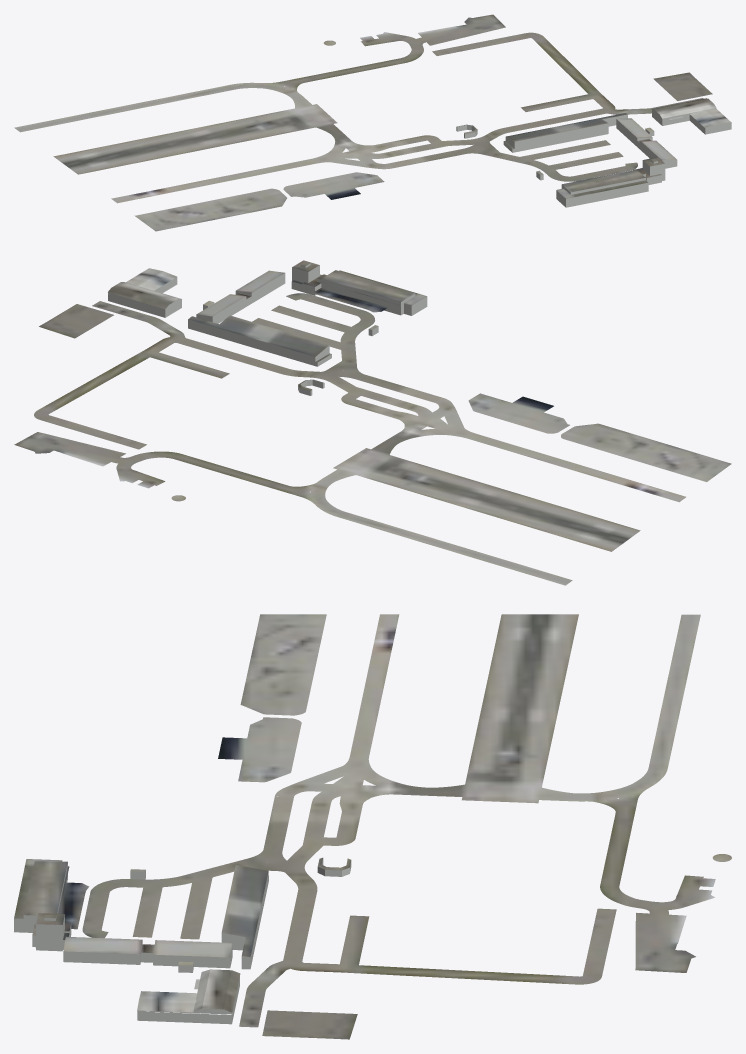
File: LSZH_3_-1.glb
3 views of the same model, one above another, from view 1: azimuth 30°, elevation 25°; view 2: azimuth 150°, elevation 25°; view 3: azimuth 270°, elevation 25° (orthographic). The views are drawn at different scales.
Parts seen in each view (by area): view 1: pavement_LSZH_pavement_5370_2513, pavement_LSZH_pavement_5371_2513, building_a8c24826d09cff6a, building_bbb85e57517aaf0f, building_456e3000f247fb90, building_12cc013bdff51552; view 2: pavement_LSZH_pavement_5370_2513, pavement_LSZH_pavement_5371_2513, building_a8c24826d09cff6a, building_bbb85e57517aaf0f, building_456e3000f247fb90, building_12cc013bdff51552, pavement_LSZH_pavement_5371_2512; view 3: pavement_LSZH_pavement_5370_2513, pavement_LSZH_pavement_5371_2513, building_a8c24826d09cff6a, building_bbb85e57517aaf0f, building_12cc013bdff51552, building_456e3000f247fb90, pavement_LSZH_pavement_5371_2512.
Boxes of the visible parts, bbox=[...] form: pavement_LSZH_pavement_5370_2513: bbox=[14, 36, 565, 231]; pavement_LSZH_pavement_5371_2513: bbox=[368, 14, 712, 181]; building_a8c24826d09cff6a: bbox=[503, 98, 731, 160]; building_bbb85e57517aaf0f: bbox=[503, 108, 731, 168]; building_456e3000f247fb90: bbox=[556, 160, 665, 207]; building_12cc013bdff51552: bbox=[556, 157, 664, 198]; pavement_LSZH_pavement_5370_2513: bbox=[141, 315, 731, 585]; pavement_LSZH_pavement_5371_2513: bbox=[14, 294, 372, 485]; building_a8c24826d09cff6a: bbox=[108, 268, 331, 362]; building_bbb85e57517aaf0f: bbox=[108, 273, 331, 366]; building_456e3000f247fb90: bbox=[291, 263, 427, 315]; building_12cc013bdff51552: bbox=[292, 260, 426, 305]; pavement_LSZH_pavement_5371_2512: bbox=[293, 287, 384, 312]; pavement_LSZH_pavement_5370_2513: bbox=[98, 614, 731, 884]; pavement_LSZH_pavement_5371_2513: bbox=[93, 884, 714, 1039]; building_a8c24826d09cff6a: bbox=[63, 865, 268, 1013]; building_bbb85e57517aaf0f: bbox=[63, 872, 268, 1024]; building_12cc013bdff51552: bbox=[14, 859, 71, 940]; building_456e3000f247fb90: bbox=[14, 862, 71, 951]; pavement_LSZH_pavement_5371_2512: bbox=[59, 884, 92, 937].
Size of the model in its own units: 785 by 24.79 by 559.
3 materials, 2 textured.
